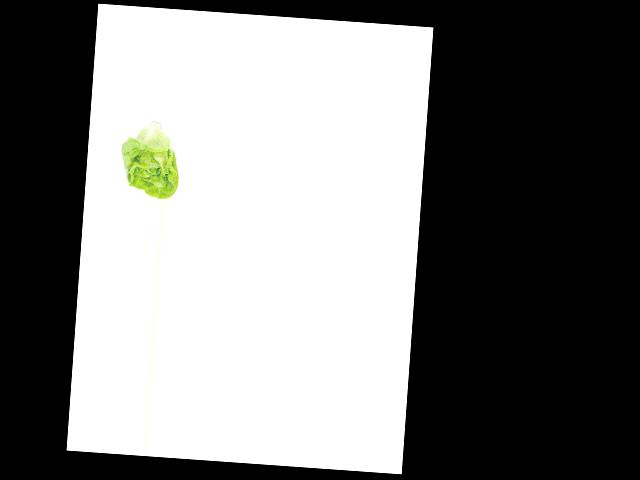lettuce: (114, 116, 184, 200)
